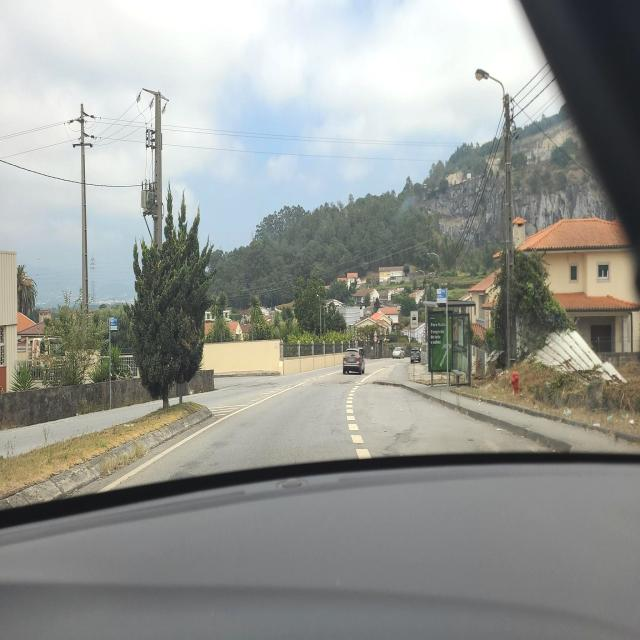car: (342, 347, 365, 375), (410, 347, 421, 363), (392, 345, 404, 359)
